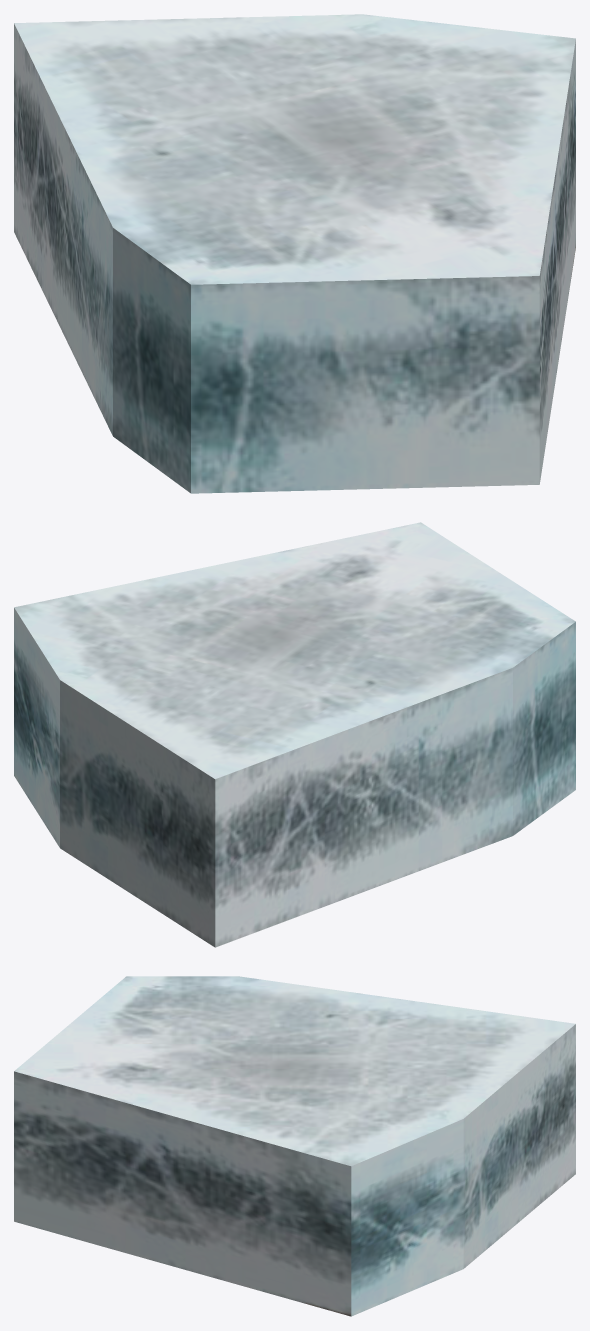
The model's file is iceberg_7.fbx.
3 views of the same model, one above another, from view 1: azimuth 30°, elevation 25°; view 2: azimuth 150°, elevation 25°; view 3: azimuth 270°, elevation 25° (orthographic). The views are drawn at different scales.
Visible parts, largest first — view 1: pCylinder7; view 2: pCylinder7; view 3: pCylinder7.
Part boxes in pixels (<box>): pCylinder7: <box>14,14,575,493</box>; pCylinder7: <box>14,522,575,947</box>; pCylinder7: <box>14,976,575,1316</box>.
Bounding box in the file's own units: 4 × 1.48 × 5.
